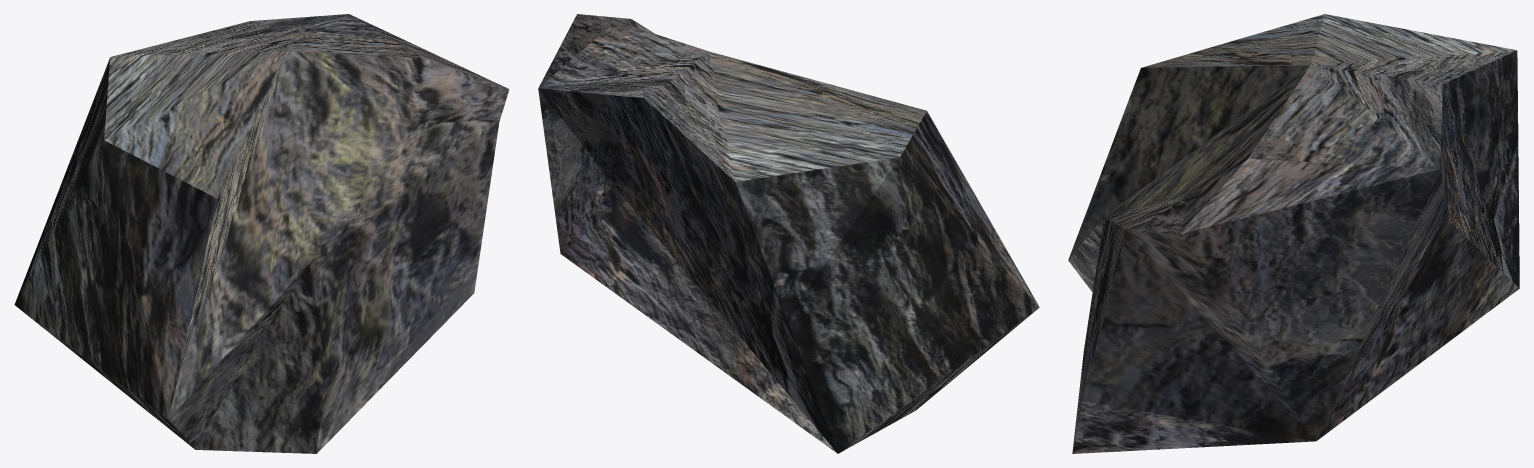
Rendered from Rock4.glb.
3 renders of one model, left to right at view 1: azimuth 30°, elevation 25°; view 2: azimuth 150°, elevation 25°; view 3: azimuth 270°, elevation 25°, orthographic. The views are drawn at different scales.
Parts seen in each view (by area): view 1: Cube; view 2: Cube; view 3: Cube.
Boxes of the visible parts, x1,y1,x2,y2 form: Cube: (14,14,509,453); Cube: (538,14,1039,453); Cube: (1068,14,1519,453).
Size of the model in its own units: 1.55 by 1.27 by 1.19.
Materials: 1 (1 with a texture image).
